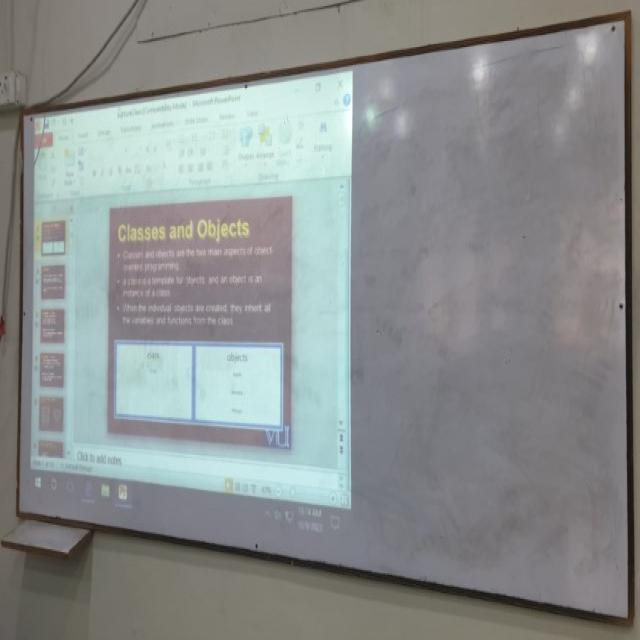Slide: (30, 71, 355, 540)
White-board: (17, 17, 631, 624)
